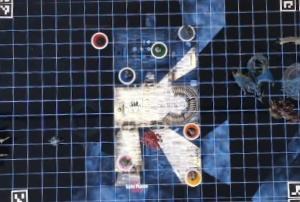blue: (117, 64, 138, 85)
green: (149, 39, 170, 59)
orange: (183, 121, 201, 141)
pink: (117, 155, 132, 168)
red: (88, 29, 108, 52)
violet: (176, 22, 193, 42)
yellow: (181, 164, 202, 186)
